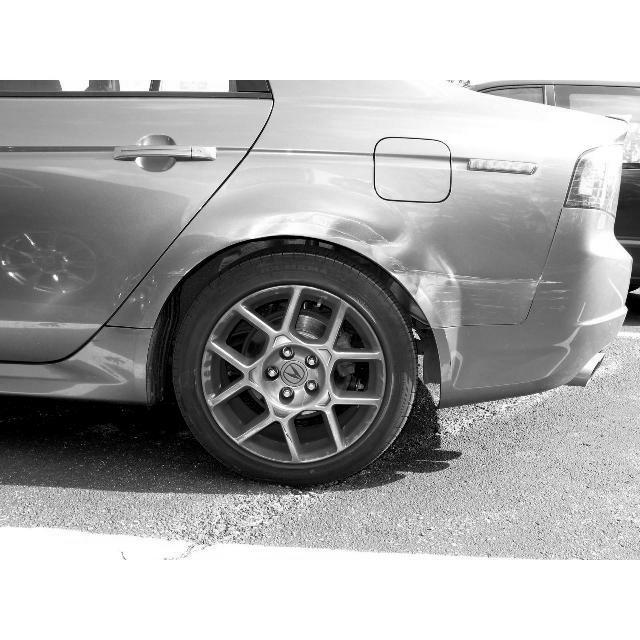doorouter-dent: (1, 105, 210, 422)
quaterpanel-dent: (235, 99, 542, 396)
